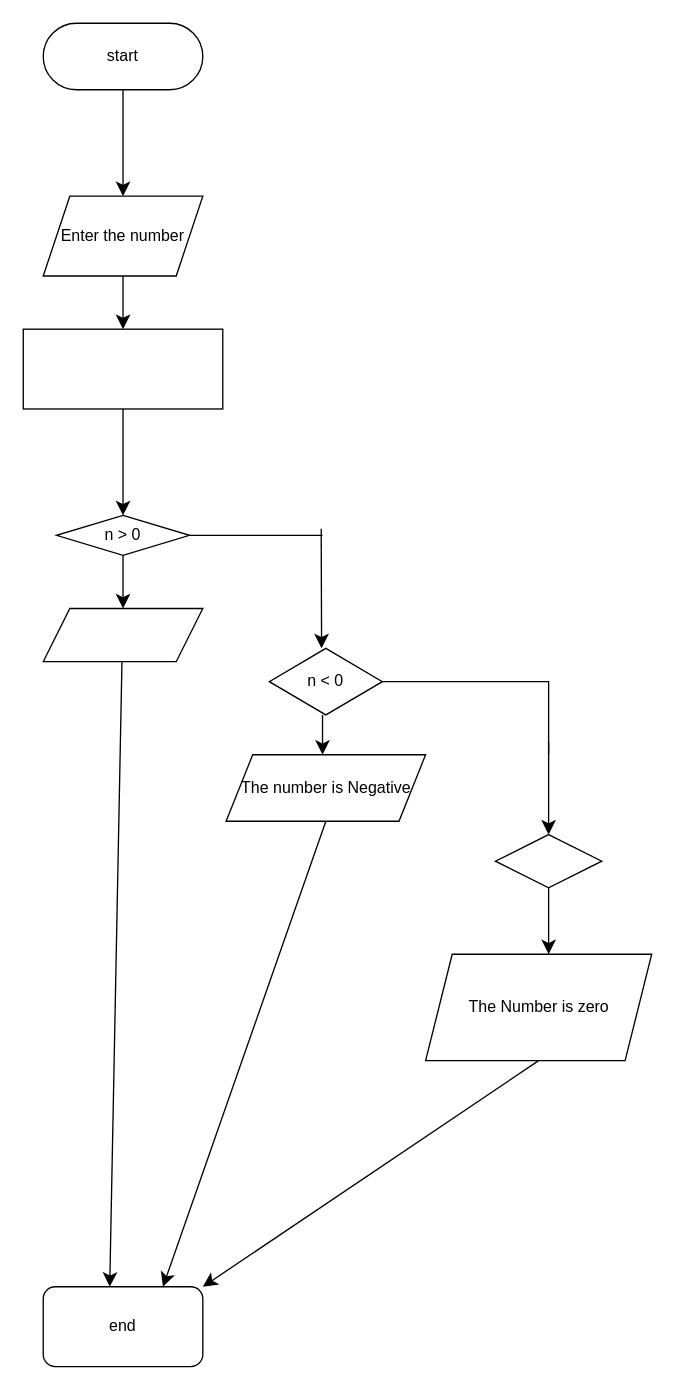
The diagram is 676 pixels wide and 1390 high, and some of its shapes have lost their labels. Each missing label, with the centre of its shape:
n = 0: pixel 548 860
store value of number in variable n: pixel 122 368
The number is Positive: pixel 122 634
